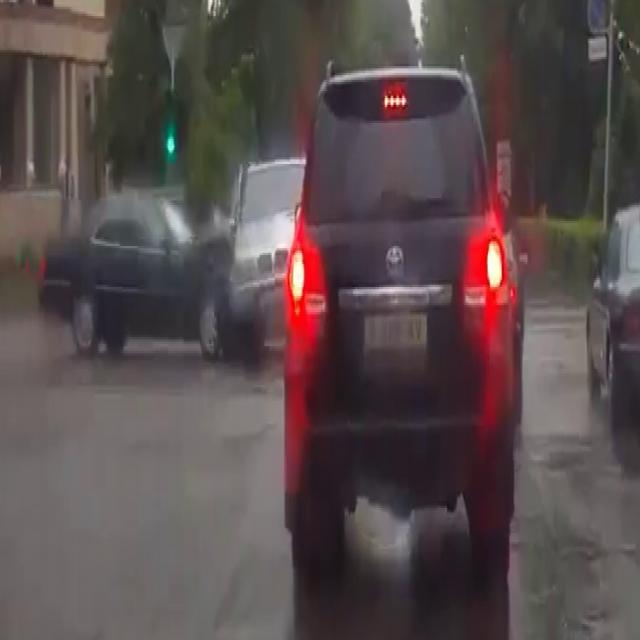accident: (128, 151, 282, 382)
